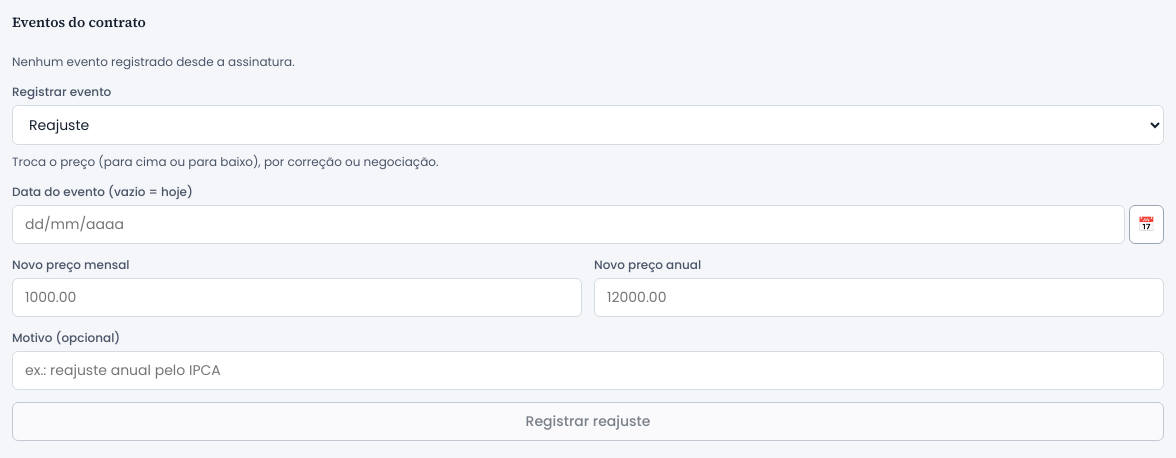
Test: EventosDeContrato › correção exige o novo preço e o motivo, e explica que não é movimento do MRR
Select "Correção" in the dropdown labelled "Registrar evento" at (588, 125), box [12,105,1164,145]
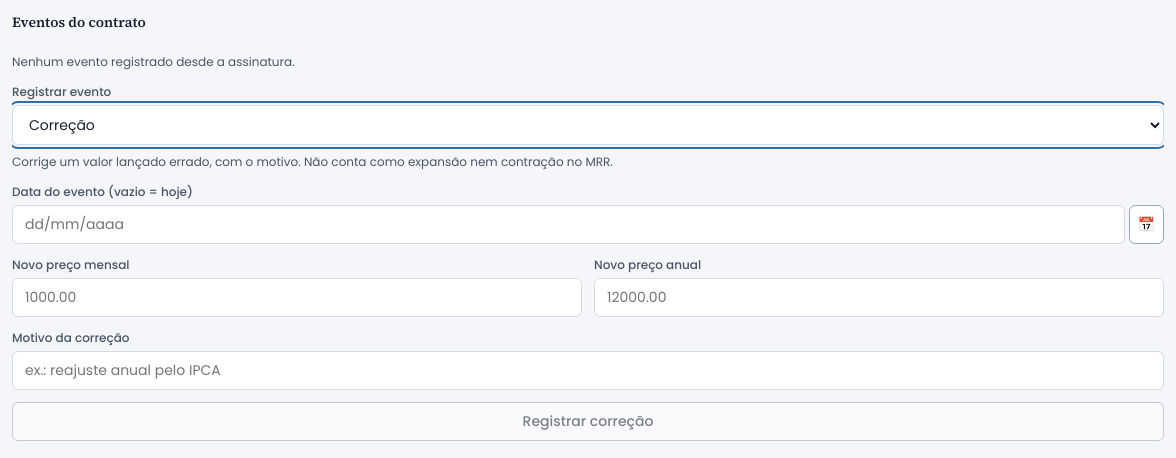
Expected: the button "Registrar correção" is disabled, [12,402,1164,441]
Expected: the text "não conta como expansão nem contração" is shown, [12,153,613,170]
Type "900" into the number field labelled "Novo preço mensal".
click(297, 298); type("900")  # box [12,278,582,317]
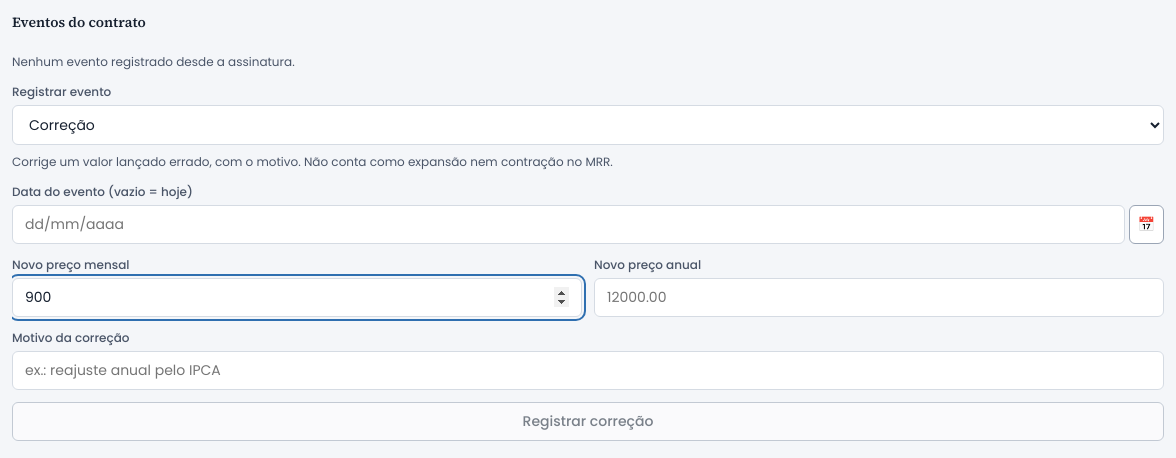
Expected: the button "Registrar correção" is disabled, [12,402,1164,441]
Type "valor lançado errado" into the field labelled "Motivo da correção".
click(588, 370); type("valor lançado errado")  # box [12,351,1164,390]
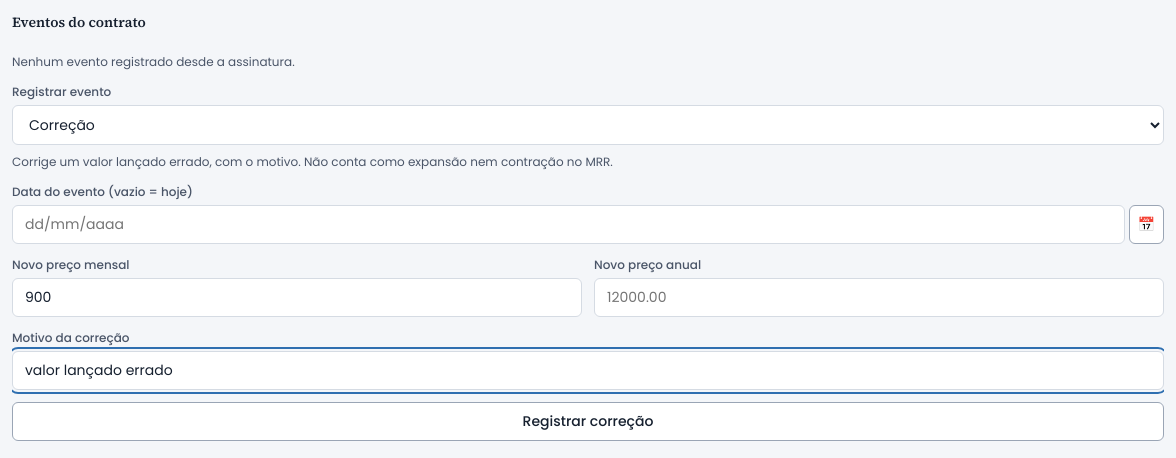
Expected: the button "Registrar correção" is enabled, [12,402,1164,441]
